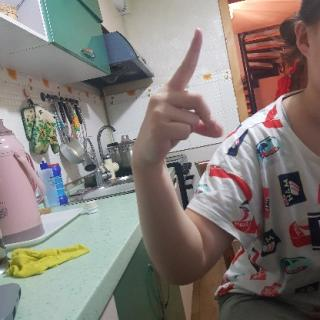TAA: (128, 26, 229, 170)
